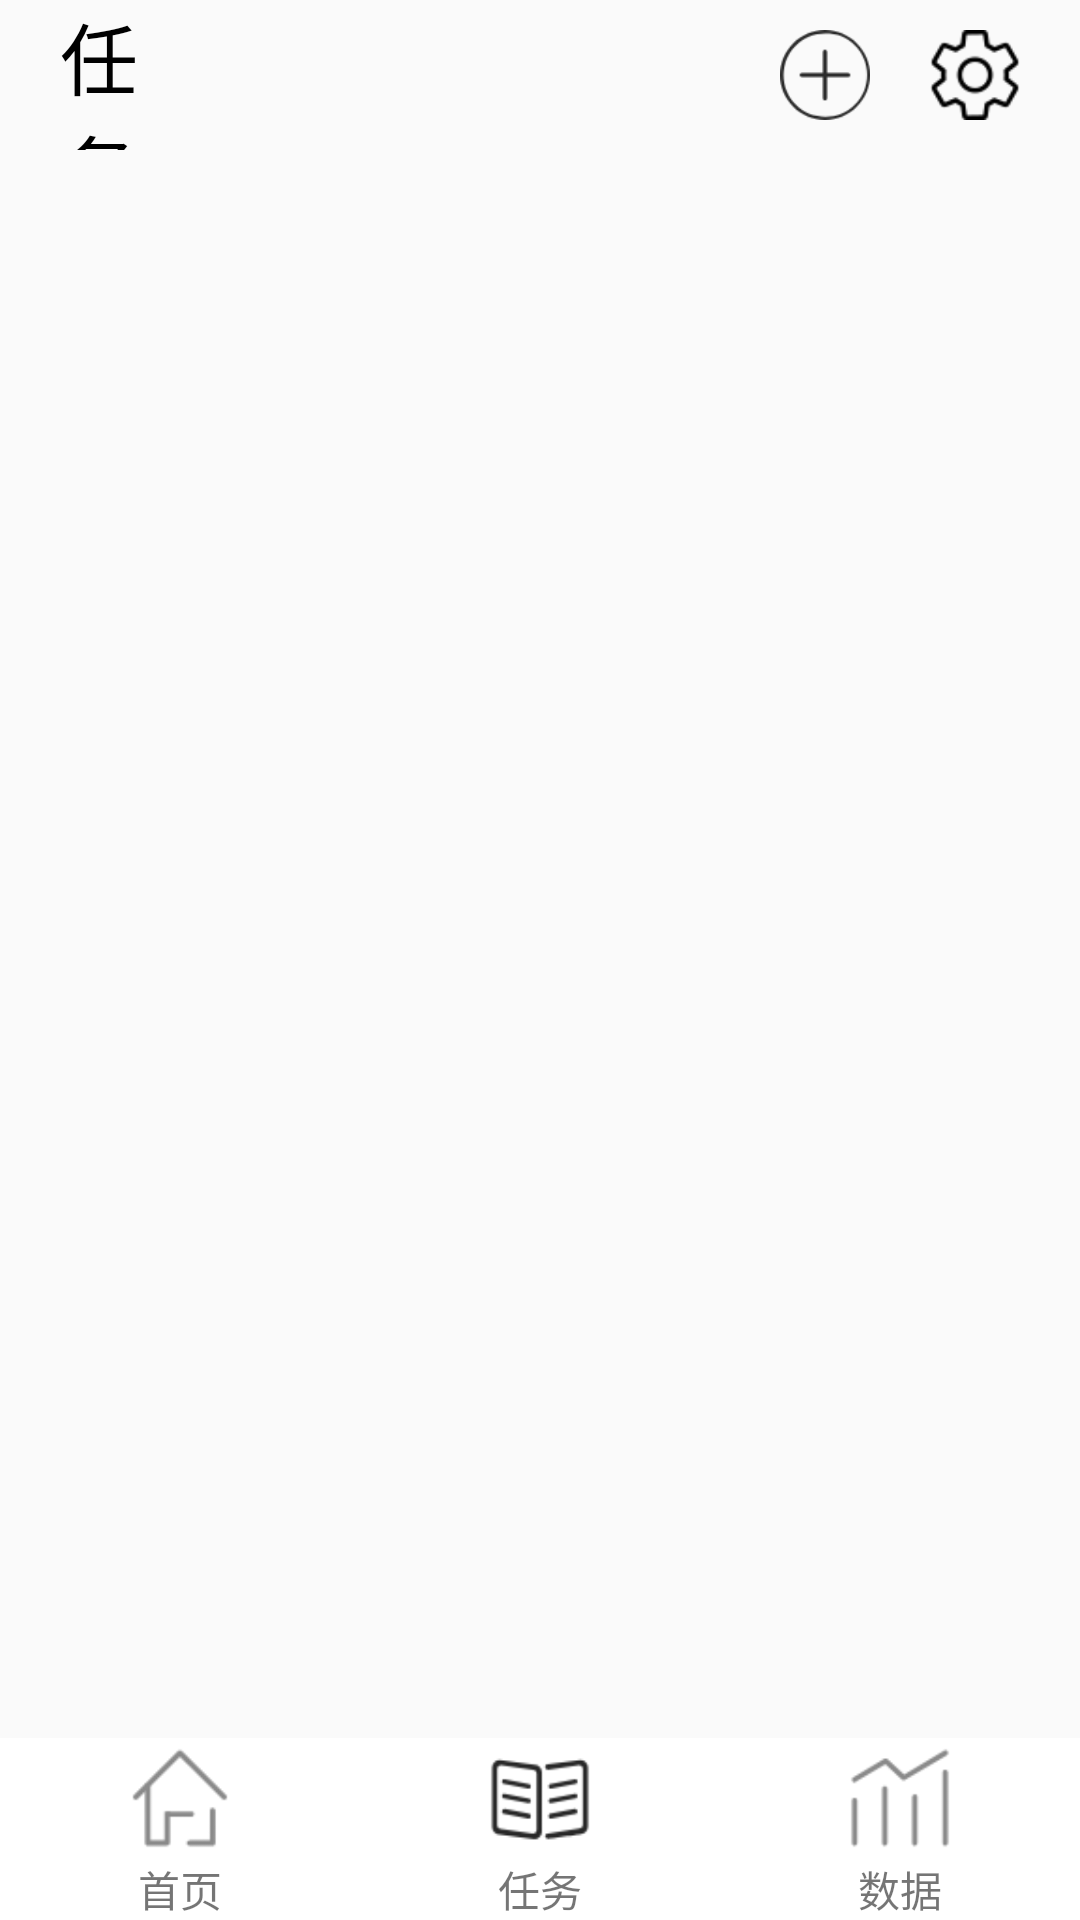

Locate icon controls on the screen. Image size 1080 x 1920, boxes as (x1, y1, x2, y2).
add: (780, 30, 870, 120)
quotation out: (851, 1749, 949, 1847)
setup: (931, 30, 1019, 120)
strategy: (491, 1759, 589, 1840)
